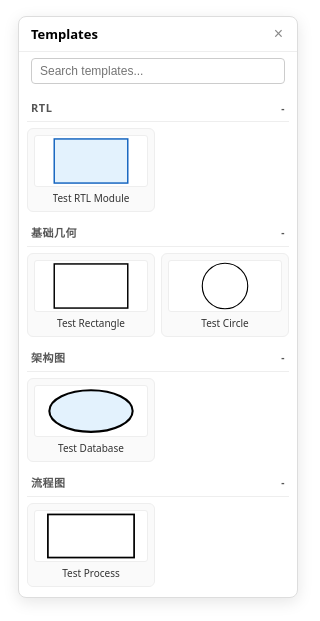
Test: TemplatePanel › filters templates by search text
In the field with placeholder "Search templates...": (158, 71) [31,58,285,84], type "Circle"
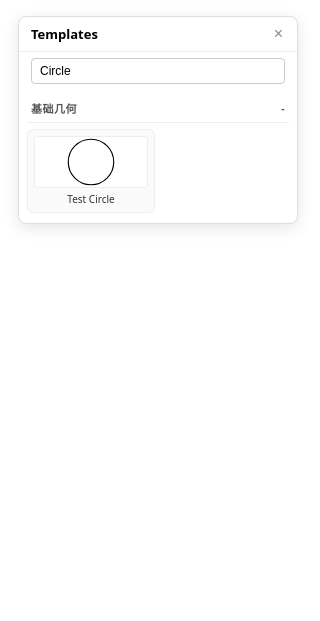
expect the text "Test Rectangle" is gone: met
expect the text "流程图" is gone: met
expect the text "架构图" is gone: met
